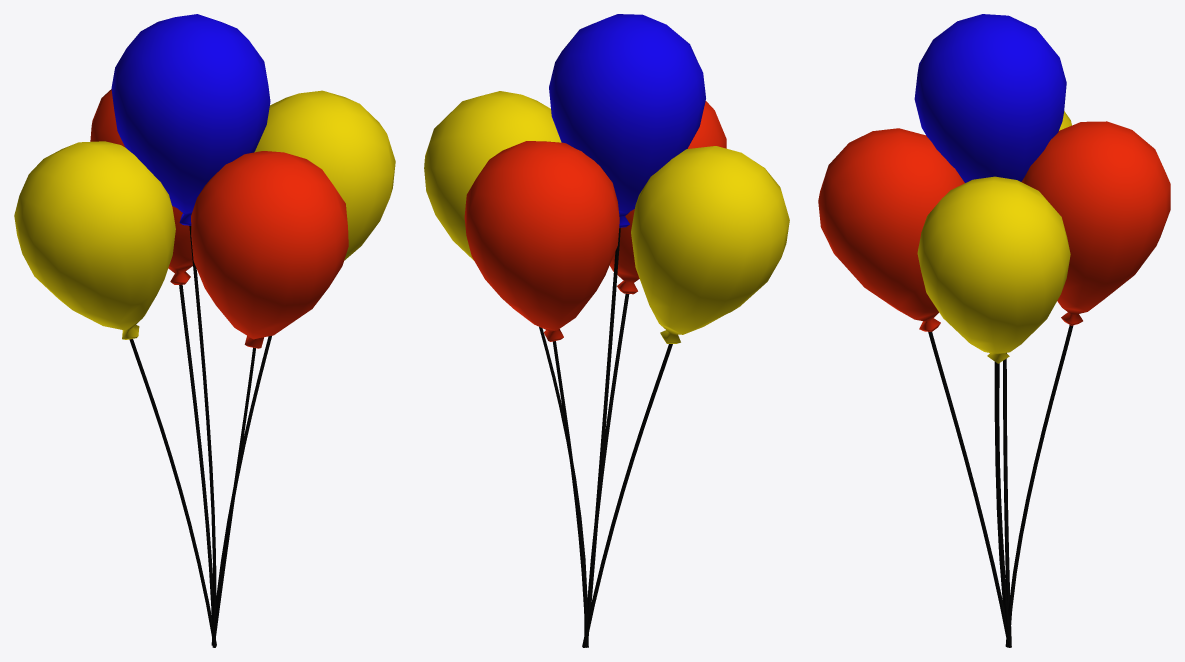
File: Baloons.glb
3 views of the same model, side by side, from view 1: azimuth 30°, elevation 25°; view 2: azimuth 150°, elevation 25°; view 3: azimuth 270°, elevation 25° (orthographic). The views are drawn at different scales.
Parts seen in each view (by area): view 1: BézierCurve.001; view 2: BézierCurve.001; view 3: BézierCurve.001.
Part boxes in pixels (x1,y1,x2,y2): BézierCurve.001: (14, 14, 395, 647); BézierCurve.001: (424, 14, 789, 647); BézierCurve.001: (818, 14, 1170, 647).
Bounding box in the file's own units: 2.57 × 4.42 × 2.31.
